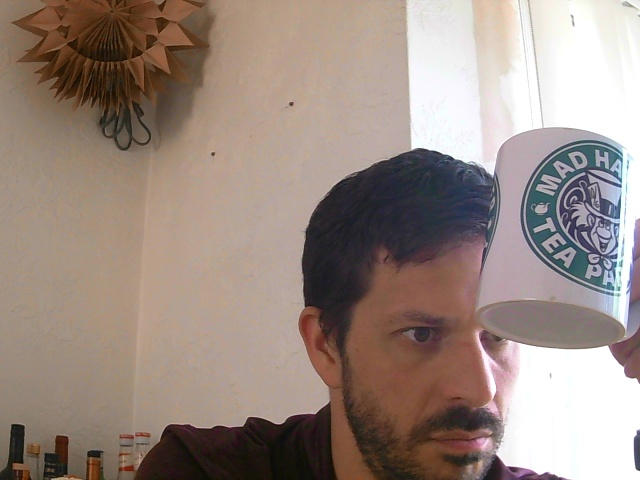mug: (472, 126, 640, 351)
